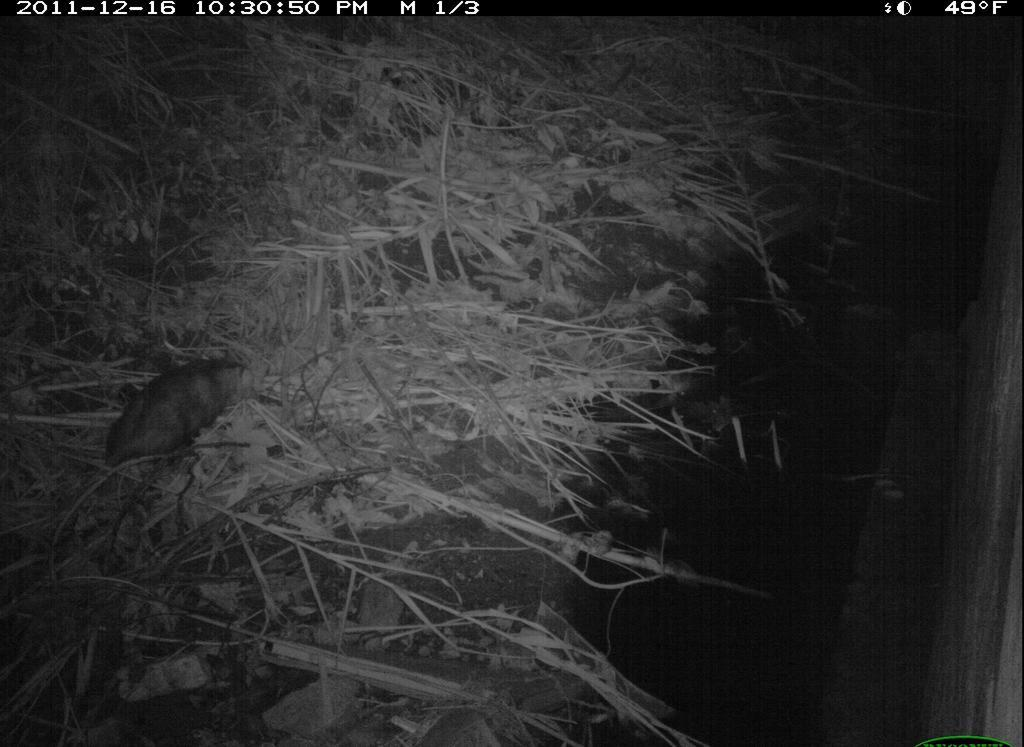opossum: (73, 353, 264, 495)
